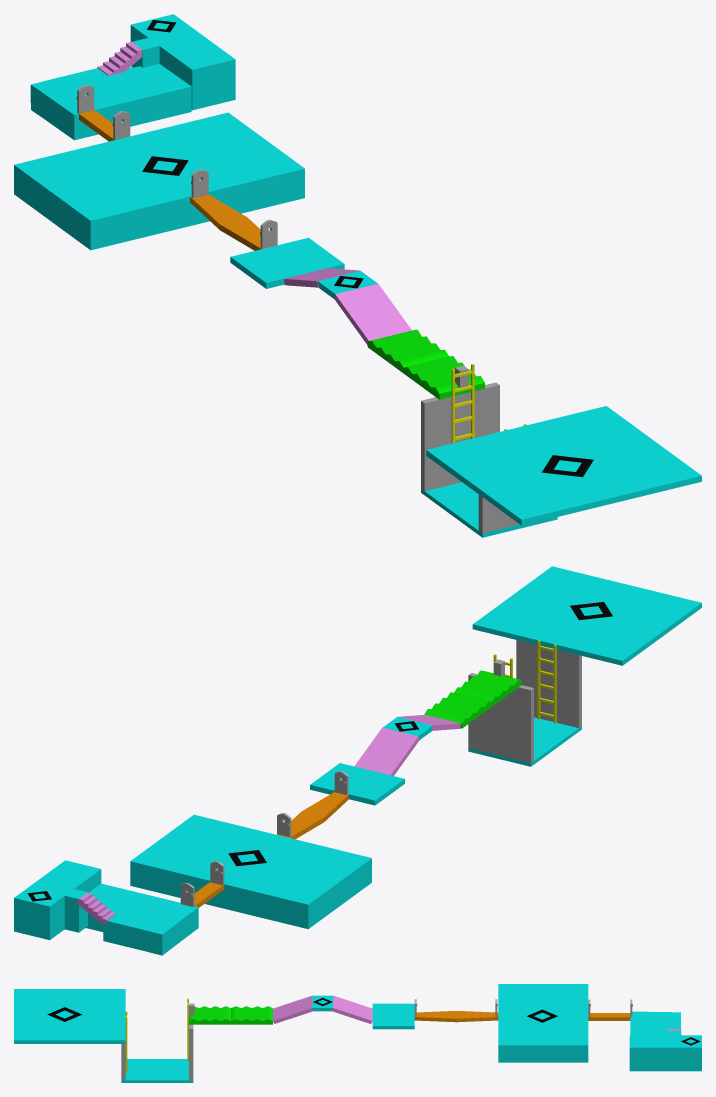
File: test_realm.fbx
3 renders of one model, top to bottom at view 1: azimuth 30°, elevation 25°; view 2: azimuth 150°, elevation 25°; view 3: azimuth 270°, elevation 25°, orthographic. The views are drawn at different scales.
Parts seen in each view (by area): view 1: Suelo_Estatico, pCube14, pCube27, pCube11, PasilloDoble, pCube25, pCube16, Escalera; view 2: Suelo_Estatico, pCube16, pCube14, pCube27, pCube9, PasilloDoble, pCube26, Escalera; view 3: Suelo_Estatico, pCube27, PasilloDoble, pCube11, pCube9, Pasillo, pCube14, Teleporte3, pCube26, pCube16, Teleporte1.
Part boxes in pixels (x1,y1,x2,y2): Suelo_Estatico: (14, 14, 701, 537); pCube14: (421, 382, 499, 490); pCube27: (367, 329, 484, 399); pCube11: (334, 283, 411, 344); PasilloDoble: (190, 194, 261, 250); pCube25: (451, 364, 474, 443); pCube16: (478, 494, 519, 533); Escalera: (97, 42, 142, 75); Suelo_Estatico: (14, 566, 701, 955); pCube16: (516, 640, 581, 727); pCube14: (468, 673, 533, 763); pCube27: (424, 670, 521, 728); pCube9: (354, 727, 419, 775); PasilloDoble: (276, 792, 348, 839); pCube26: (537, 640, 556, 723); Escalera: (76, 892, 115, 924); Suelo_Estatico: (14, 984, 701, 1082); pCube27: (189, 1006, 272, 1024); PasilloDoble: (414, 1011, 498, 1022); pCube11: (273, 996, 313, 1023); pCube9: (332, 995, 372, 1023); Pasillo: (588, 1013, 630, 1020); pCube14: (189, 1024, 193, 1080); Teleporte3: (47, 1007, 81, 1021); pCube26: (125, 1011, 127, 1072); pCube16: (121, 1044, 125, 1080); Teleporte1: (527, 1009, 557, 1022).
Size of the model in its own units: 29.49 by 13.59 by 117.
